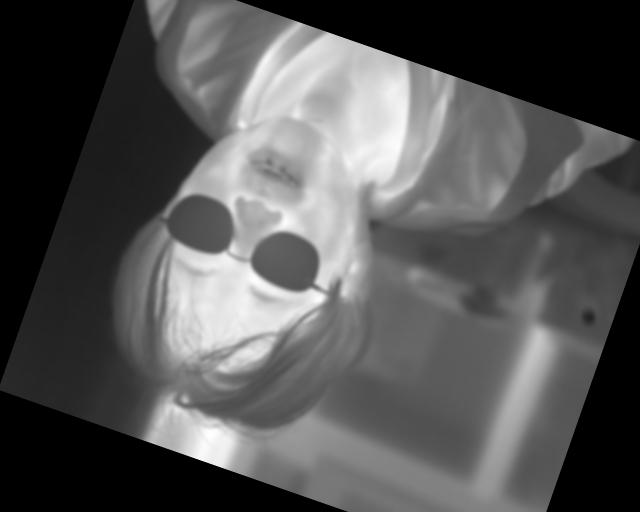face: (76, 75, 420, 465)
